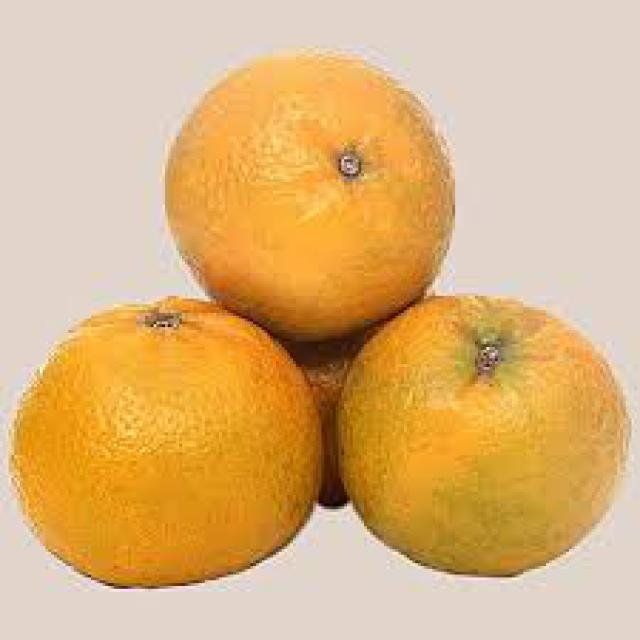orange: (7, 283, 325, 593), (165, 50, 453, 340), (339, 294, 629, 578)
